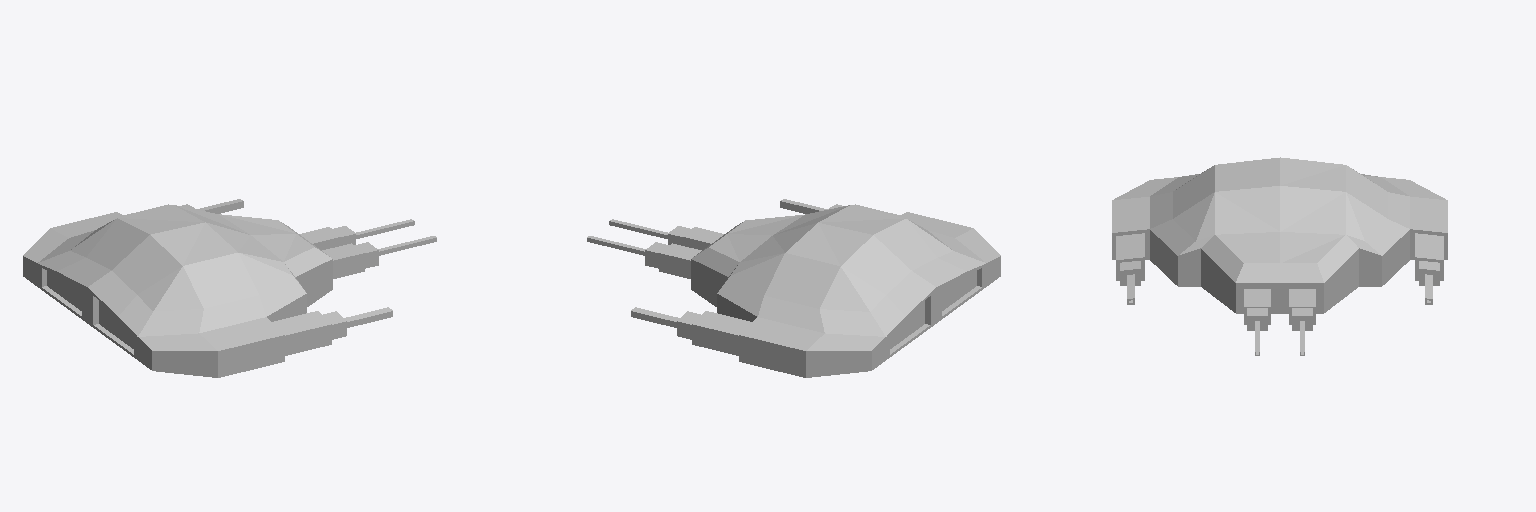
The model's file is Small Spaceship.obj.
3 renders of one model, left to right at view 1: azimuth 30°, elevation 25°; view 2: azimuth 150°, elevation 25°; view 3: azimuth 270°, elevation 25°, orthographic.
Visible parts, largest first — view 1: Cube_Cube.001; view 2: Cube_Cube.001; view 3: Cube_Cube.001.
Boxes of the visible parts, box(x1,y1,x2,y2) form: Cube_Cube.001: box(23, 199, 436, 377); Cube_Cube.001: box(587, 199, 1000, 377); Cube_Cube.001: box(1112, 157, 1447, 355).
Size of the model in its own units: 6.14 by 1.64 by 5.31.